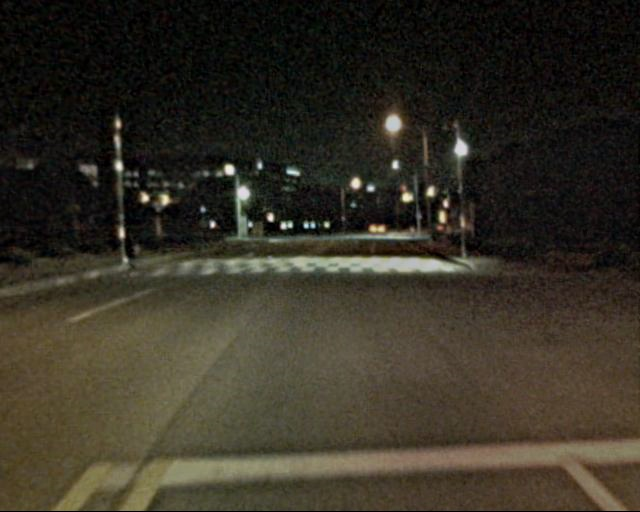person: (121, 227, 145, 281)
